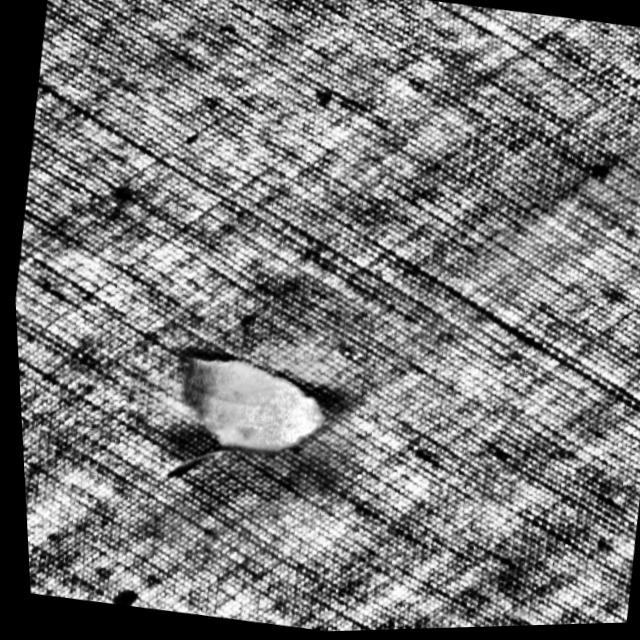Hole: (139, 324, 346, 479)
